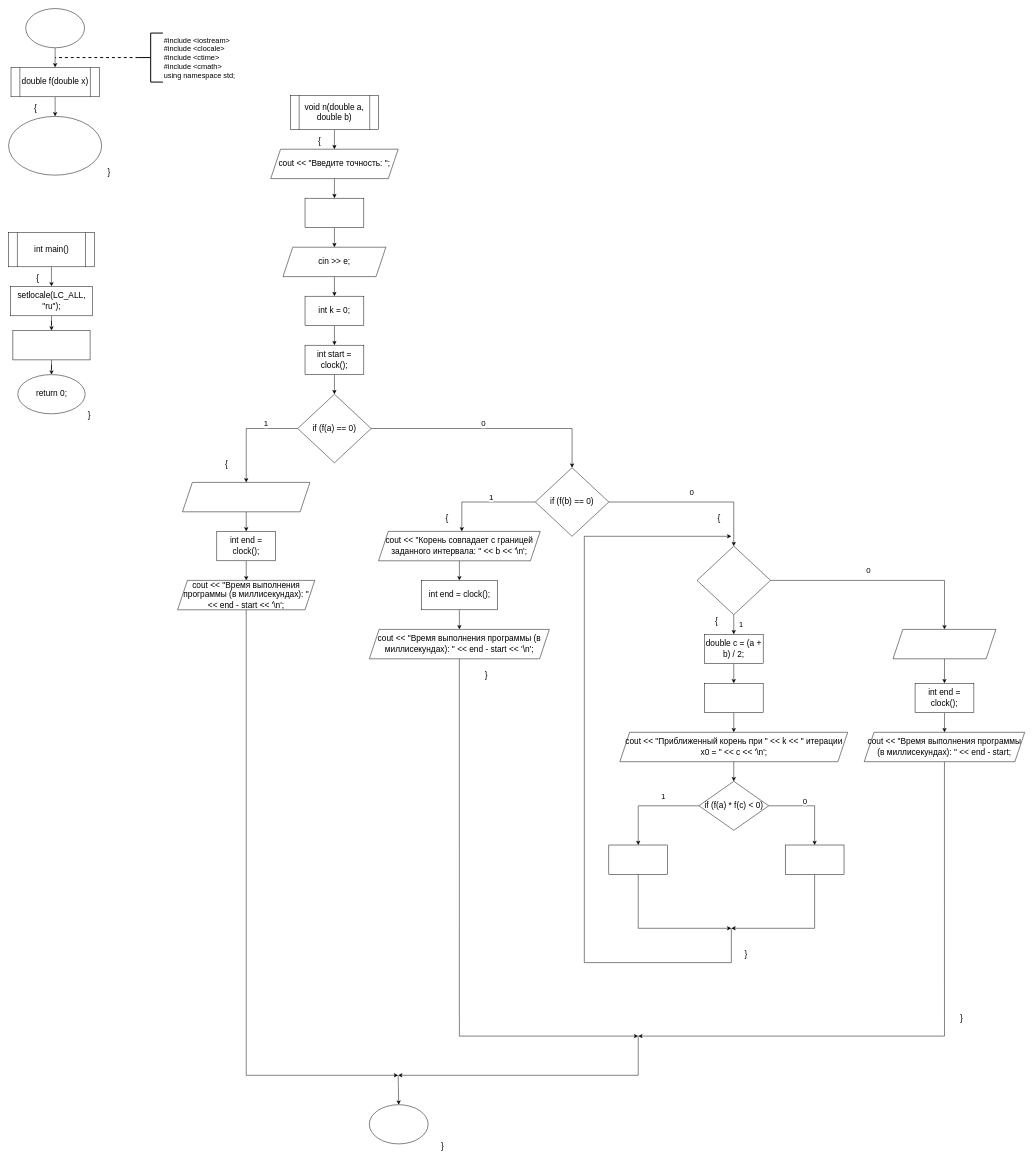
Some shapes in this 1033 by 1162 pixel diagram are drawn without their labels. Each missing label, with the centre of its shape:
++k;: (733,698)
a = c;: (814,859)
b = c;: (638,859)
cout << "Количество итераций: " << k << '\n';: (944,644)
cout << "Корень совпадает с границей заданного интервала: " << a << '\n';: (246,497)
double e;: (334,213)
n(1, 2);: (51,345)
return x - 2 + sin(1 / x);: (55,145)
while (abs(a - b) > e): (734,580)
Конец: (398,1124)
Начало: (55,28)
